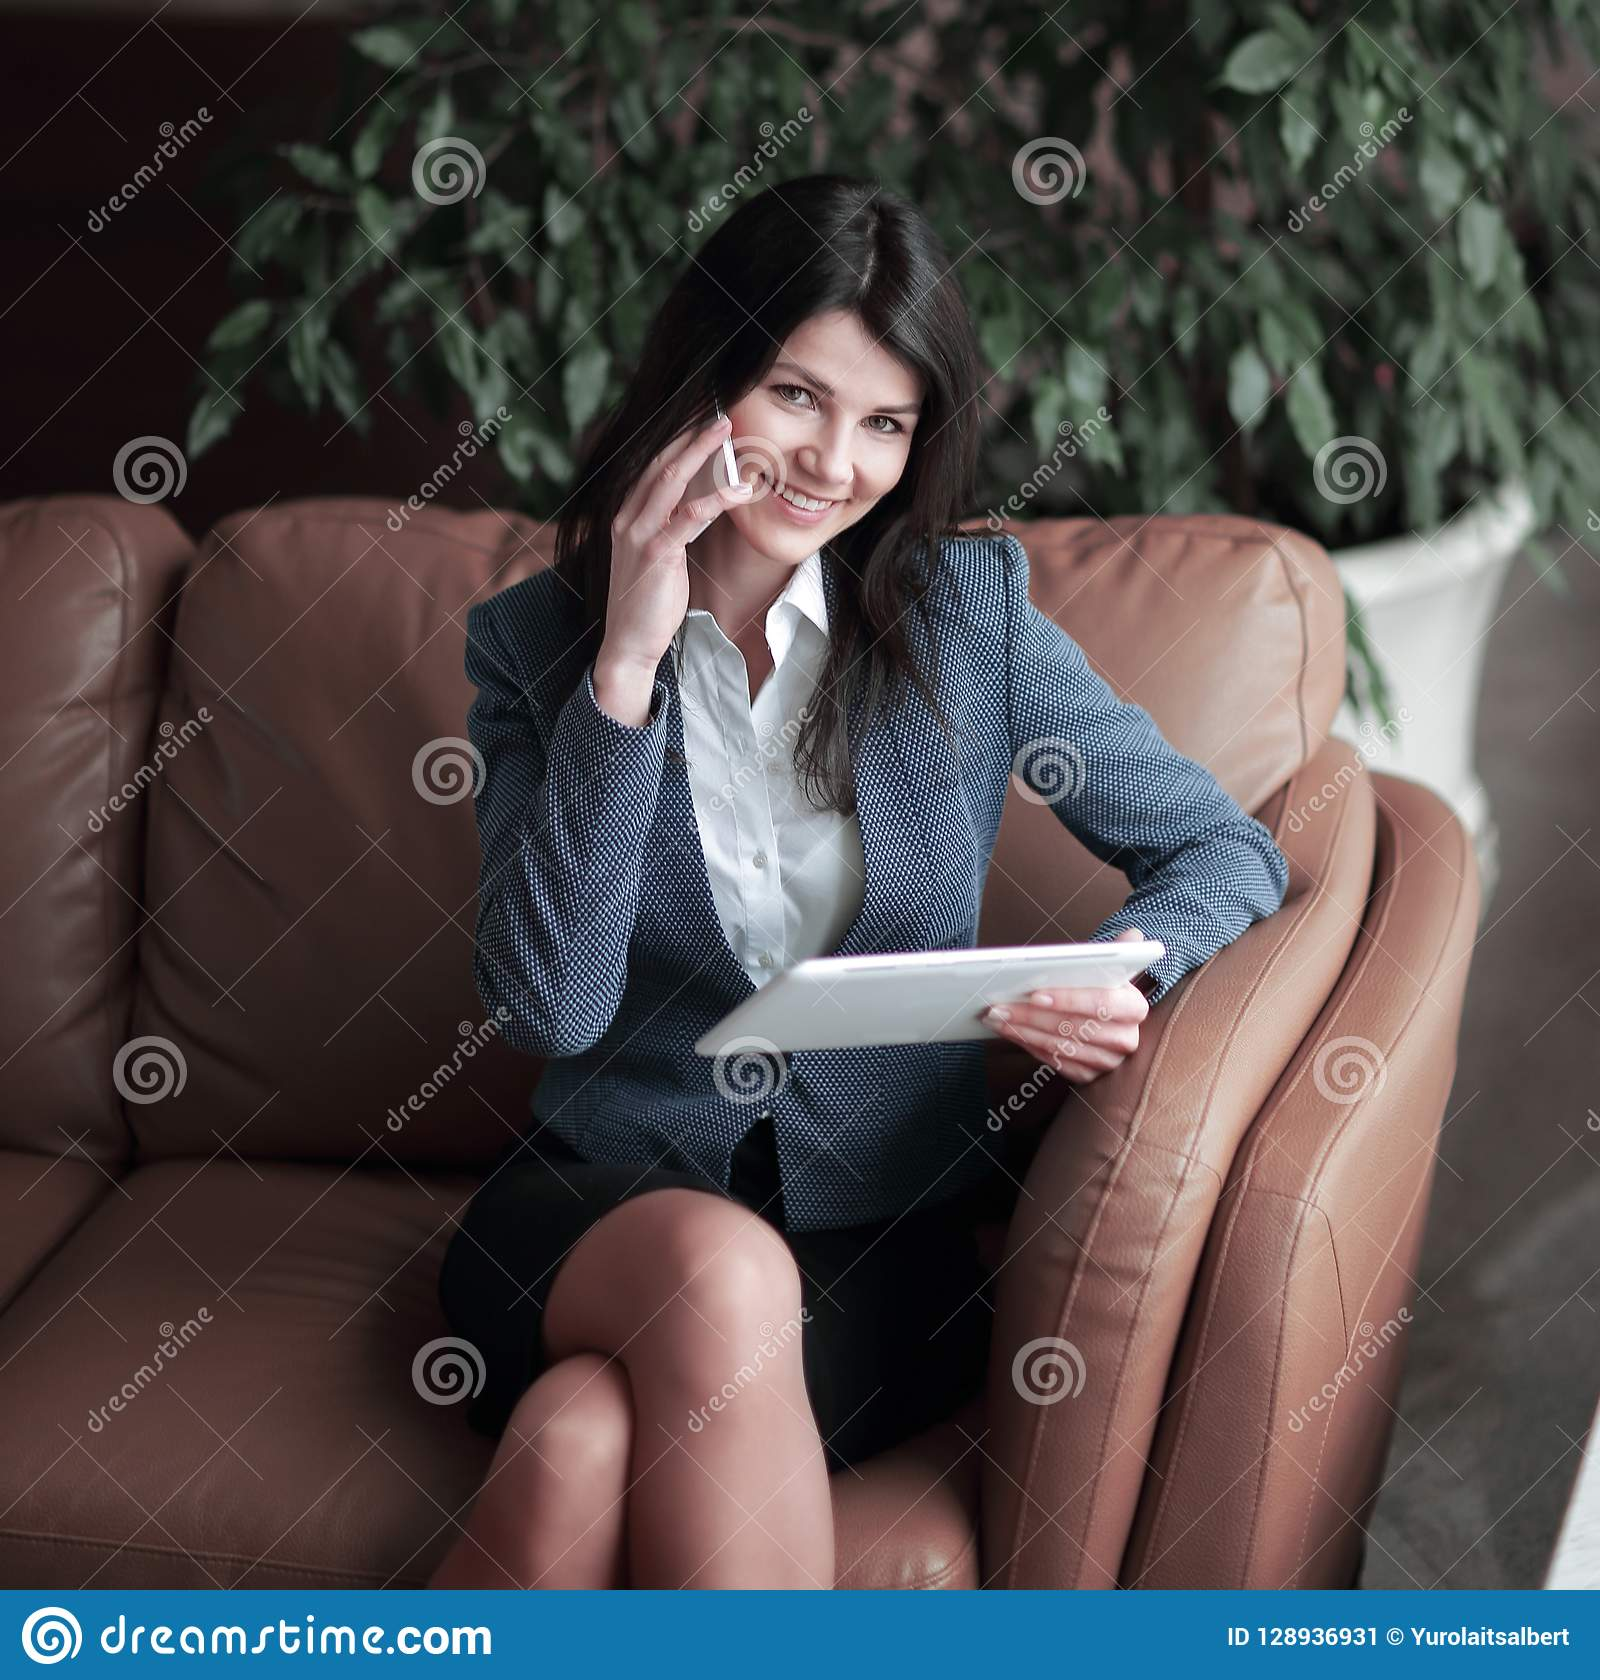phone: (666, 367, 742, 546)
talk: (601, 355, 921, 661)
